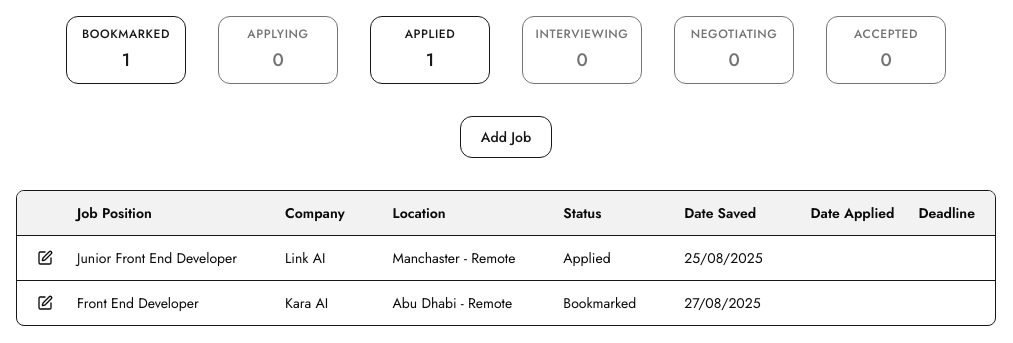
it: JobTrackerPage component › applies and then clears the filter when the same filter category button is clicked twice
Expected: the text "Junior Front End Developer" is shown, top-left (53, 236), bottom-right (261, 281)
Expected: the text "Front End Developer" is shown, top-left (53, 281), bottom-right (261, 325)
Click the button with test id "applied button". click: (430, 50)
box: top-left (370, 16), bottom-right (490, 84)
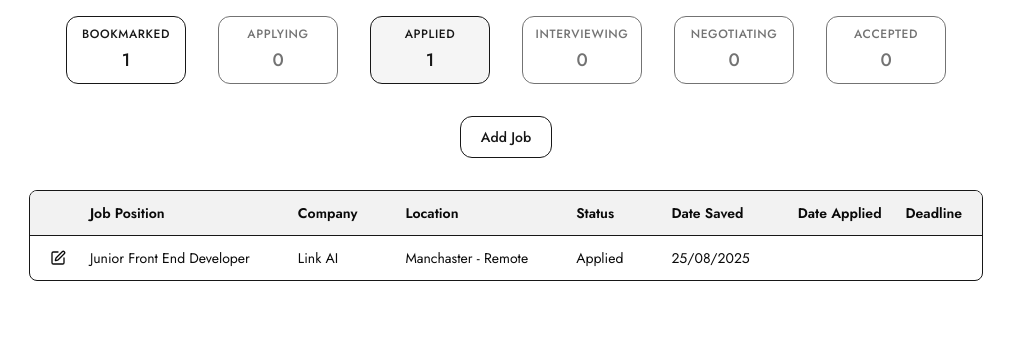
Expected: the text "Junior Front End Developer" is shown, top-left (66, 236), bottom-right (274, 280)
Click the button with test id "applied button". click: (430, 50)
box: top-left (370, 16), bottom-right (490, 84)
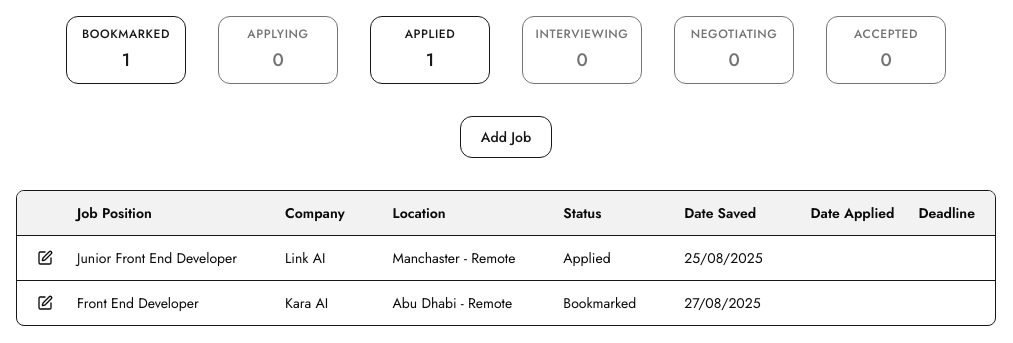
Expected: the text "Junior Front End Developer" is shown, top-left (53, 236), bottom-right (261, 281)
Now the text "Front End Developer" is shown, box top-left (53, 281), bottom-right (261, 325)
